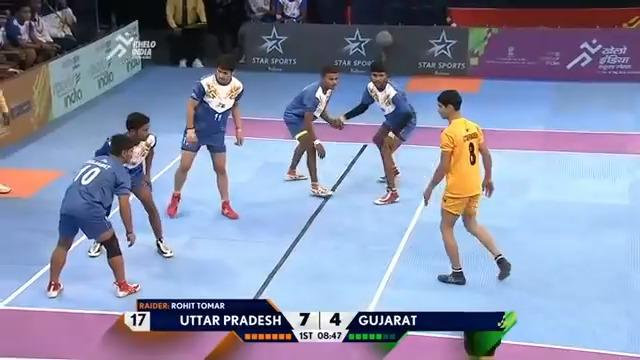Player: (45, 132, 142, 298), (166, 53, 244, 220), (87, 111, 174, 258), (336, 60, 417, 205), (282, 64, 343, 197)
Raider: (421, 87, 514, 286)
referee: (164, 0, 208, 67)
